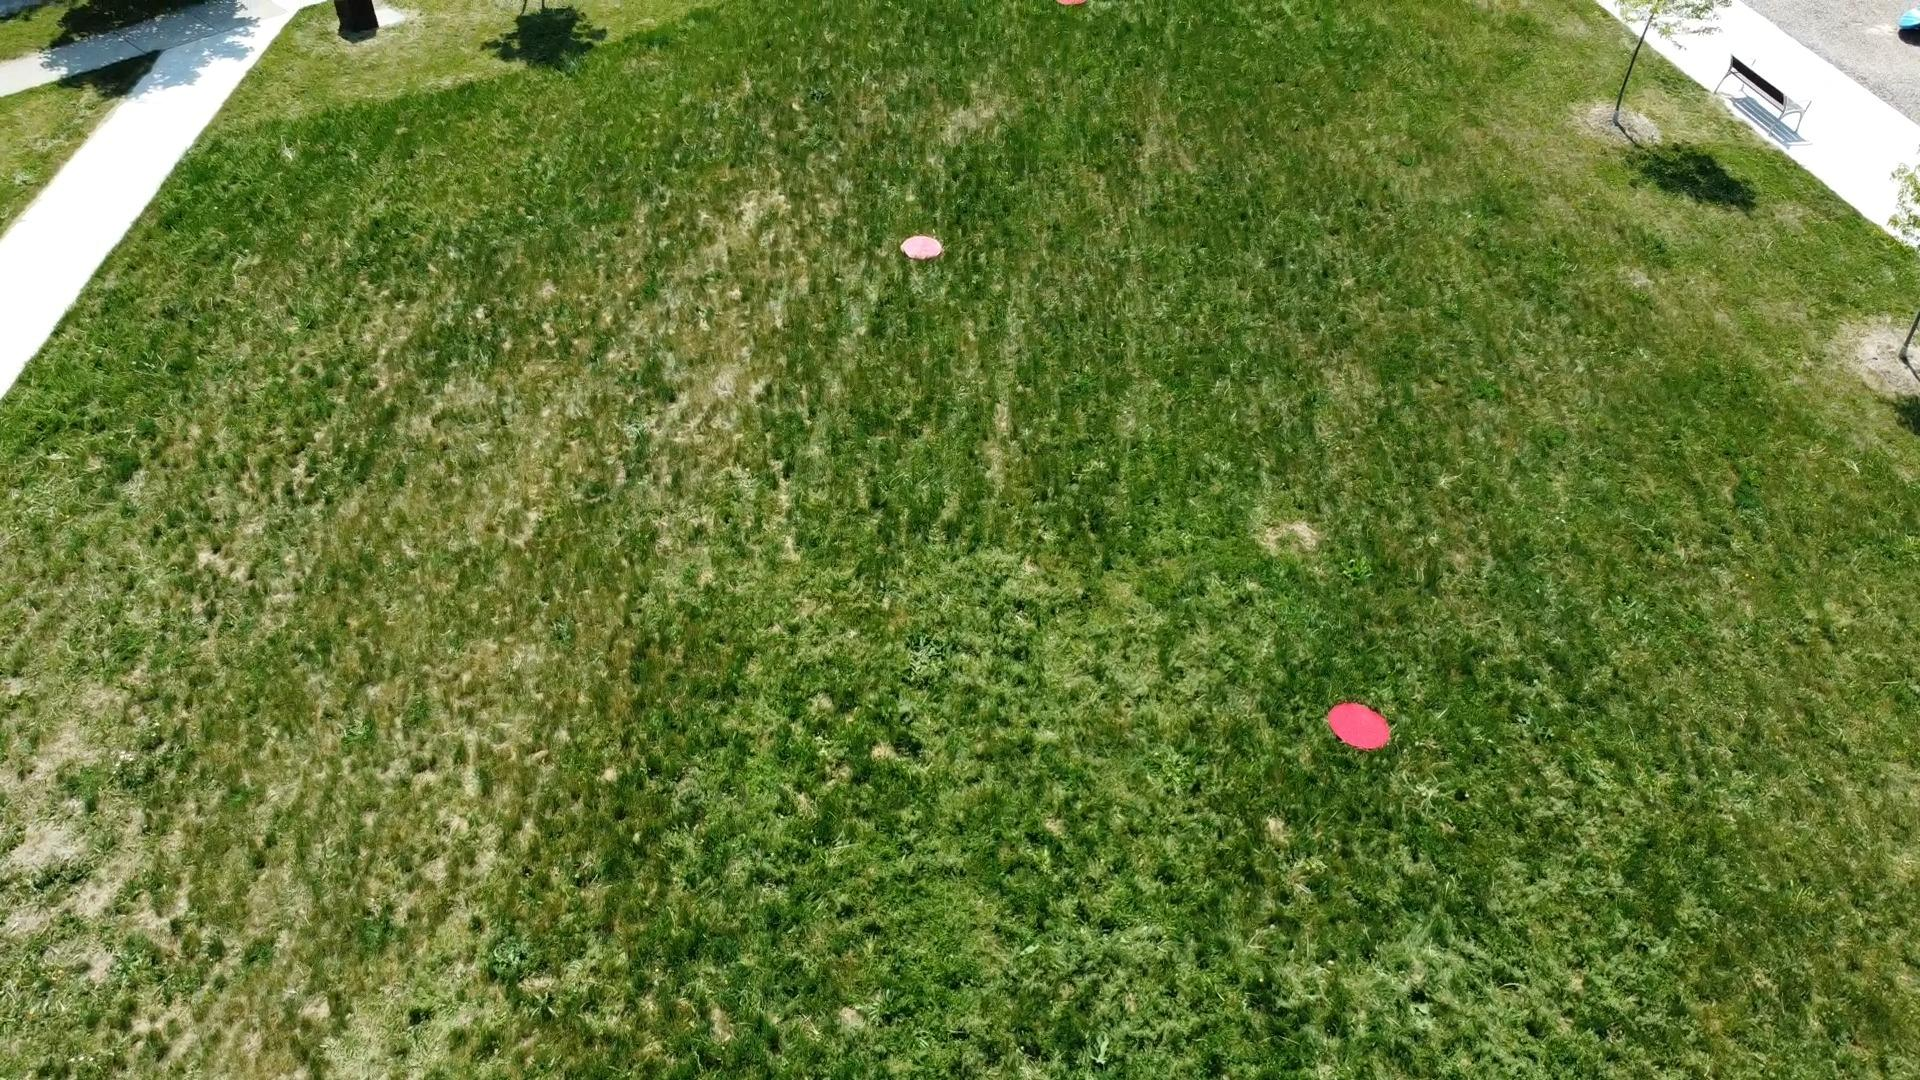Red: (1327, 696, 1391, 753), (899, 233, 947, 262), (1050, 0, 1092, 7)
